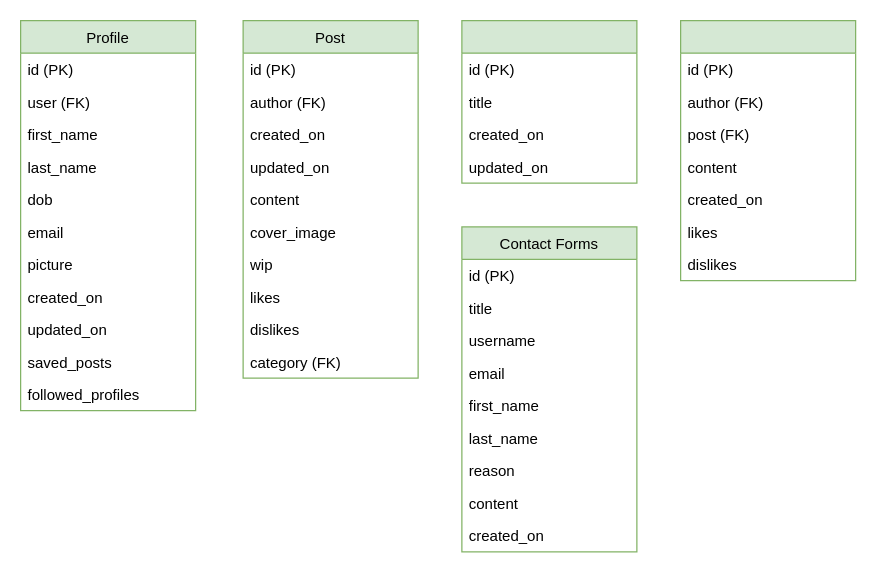
This 876x573 diagram has some shape labels left out. Each missing label, with the box of its shape:
Category: (461, 19, 637, 183)
Comment: (679, 19, 856, 281)
